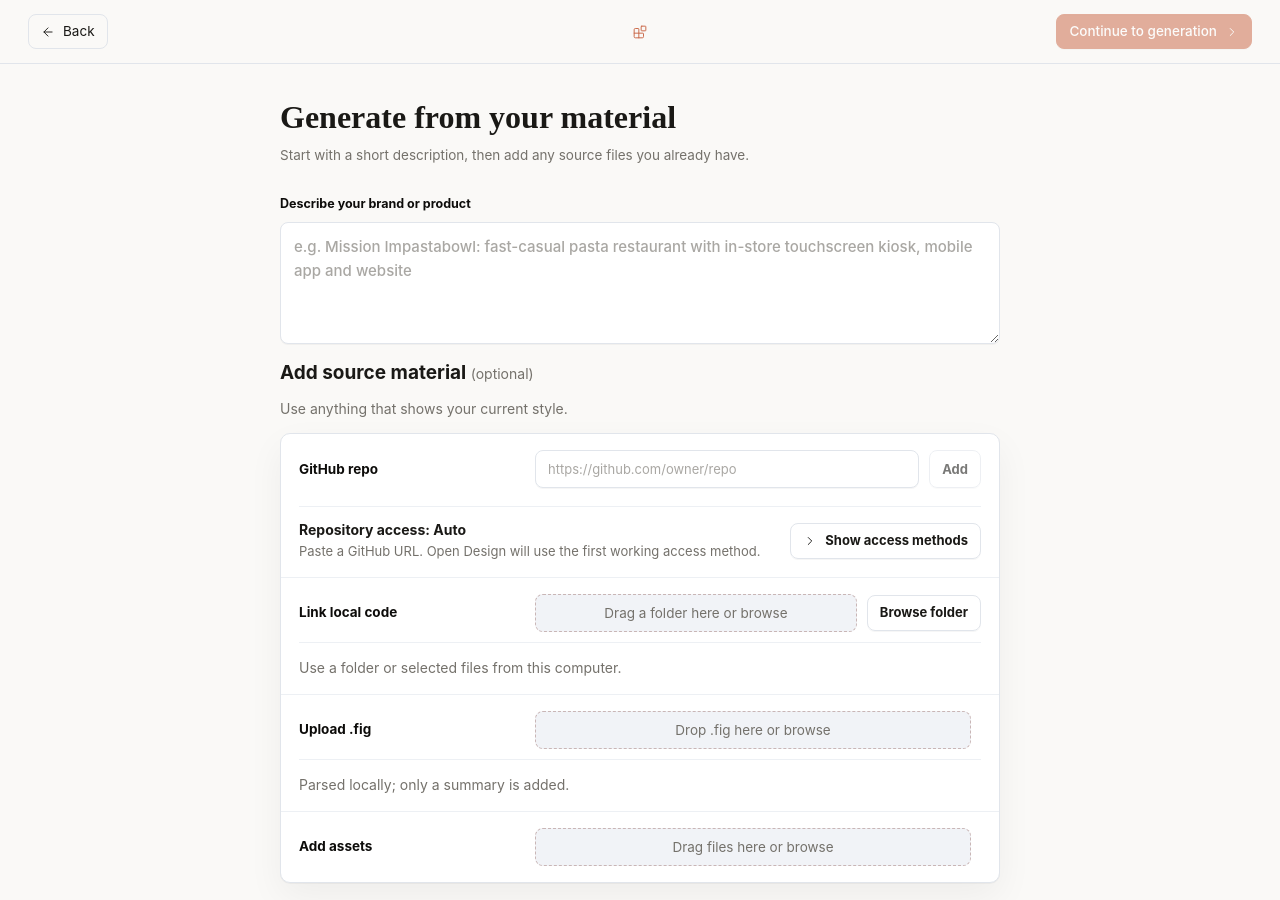
Scenario: DesignSystemCreationFlow › stops checking GitHub connector if the status request hangs
Expected: the text "Repository access: Auto" is shown, top-left (299, 521), bottom-right (466, 538)
What coordinates should you click on to do the following:
click the button "Show access methods"
I would click on:
 (886, 541)
Its box is top-left (790, 523), bottom-right (981, 559).
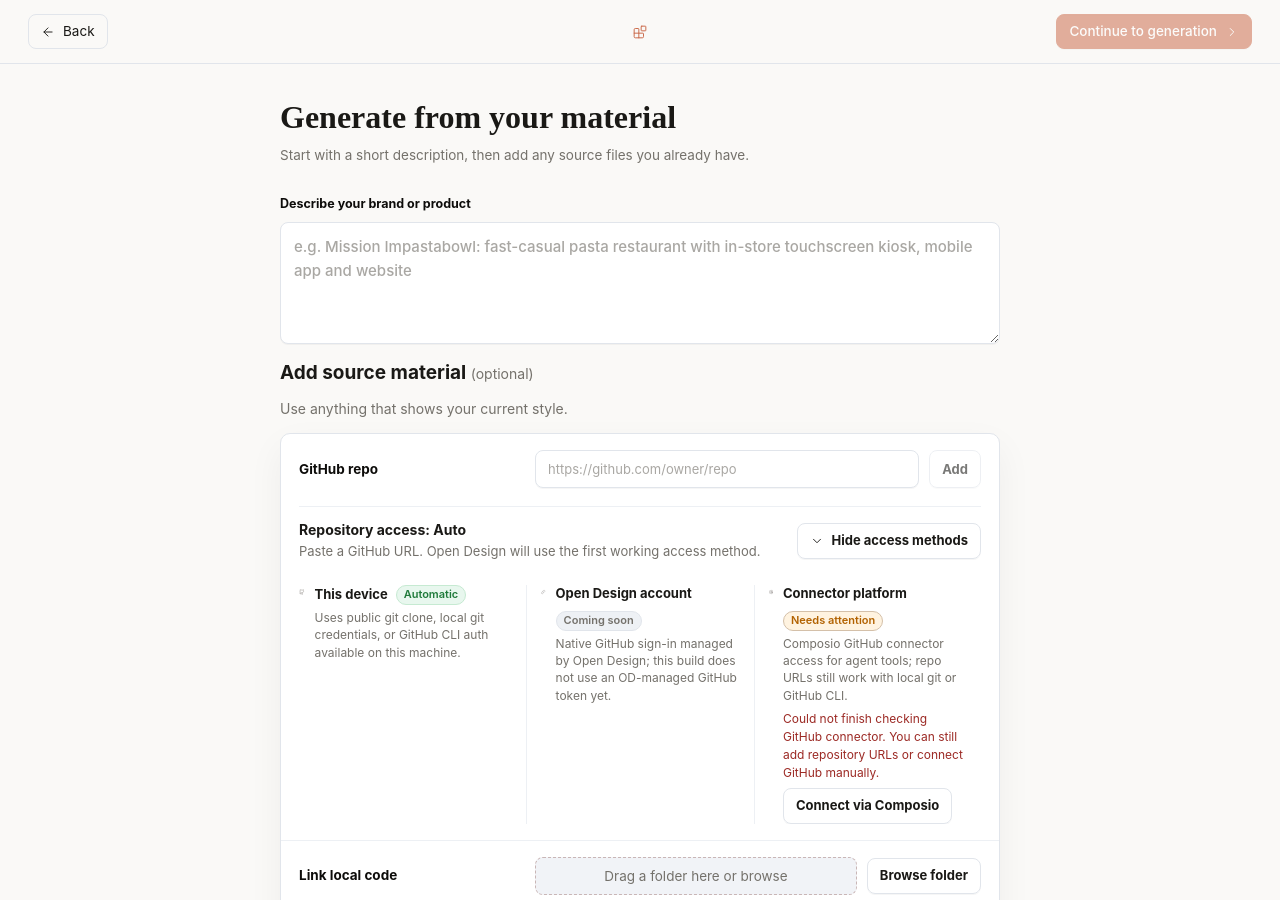
Now the text "Needs attention" is shown, box top-left (783, 611), bottom-right (883, 631)
Now the text "Could not finish checking GitHub connector" is shown, box top-left (783, 711), bottom-right (963, 780)
Now the button "Connect via Composio" is shown, box top-left (783, 788), bottom-right (952, 824)
